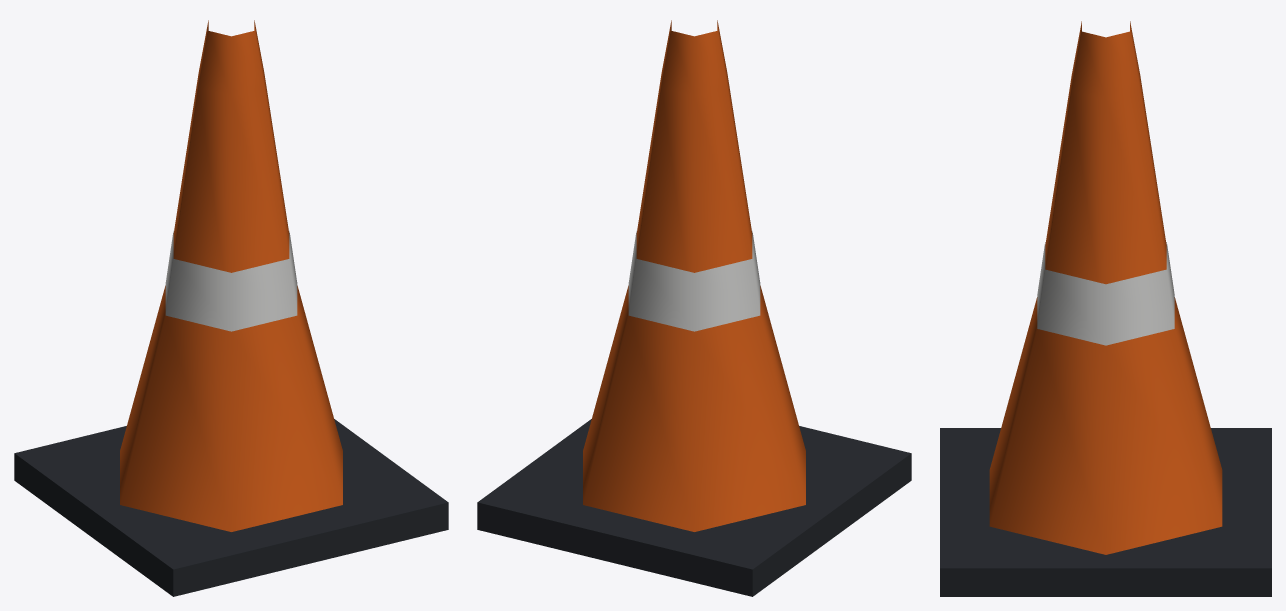
File: mobile-low.glb
3 views of the same model, side by side, from view 1: azimuth 30°, elevation 25°; view 2: azimuth 150°, elevation 25°; view 3: azimuth 270°, elevation 25° (orthographic). The views are drawn at different scales.
Parts seen in each view (by area): view 1: cone; view 2: cone; view 3: cone.
Boxes of the visible parts, x1,y1,x2,y2 form: cone: (14,20,448,596); cone: (477,20,911,596); cone: (940,21,1271,596).
Size of the model in its own units: 0.42 by 0.7 by 0.42.
